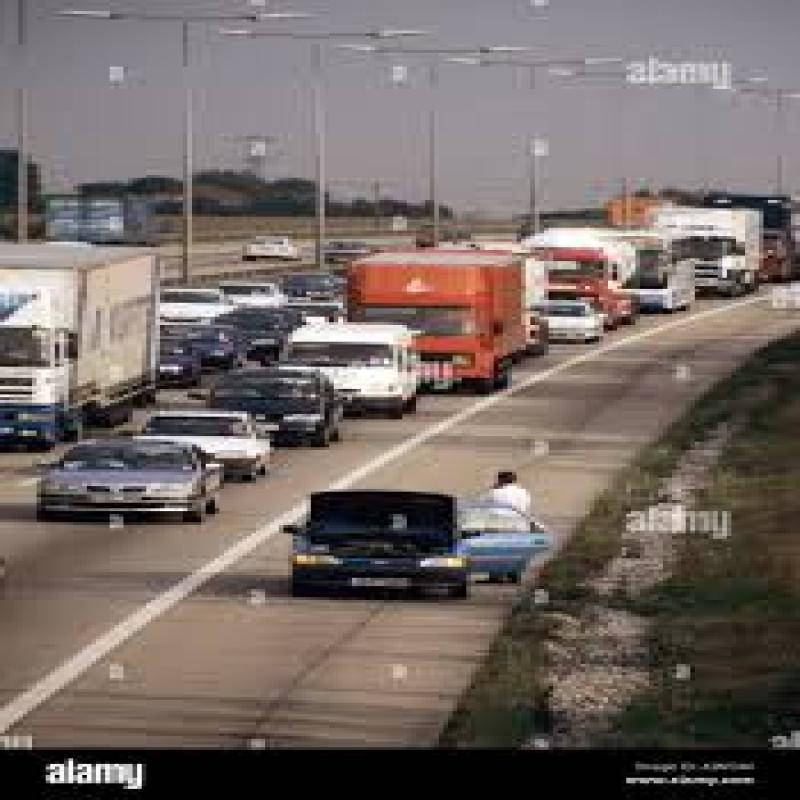car: (5, 425, 224, 532), (280, 316, 440, 420), (197, 364, 332, 456)
